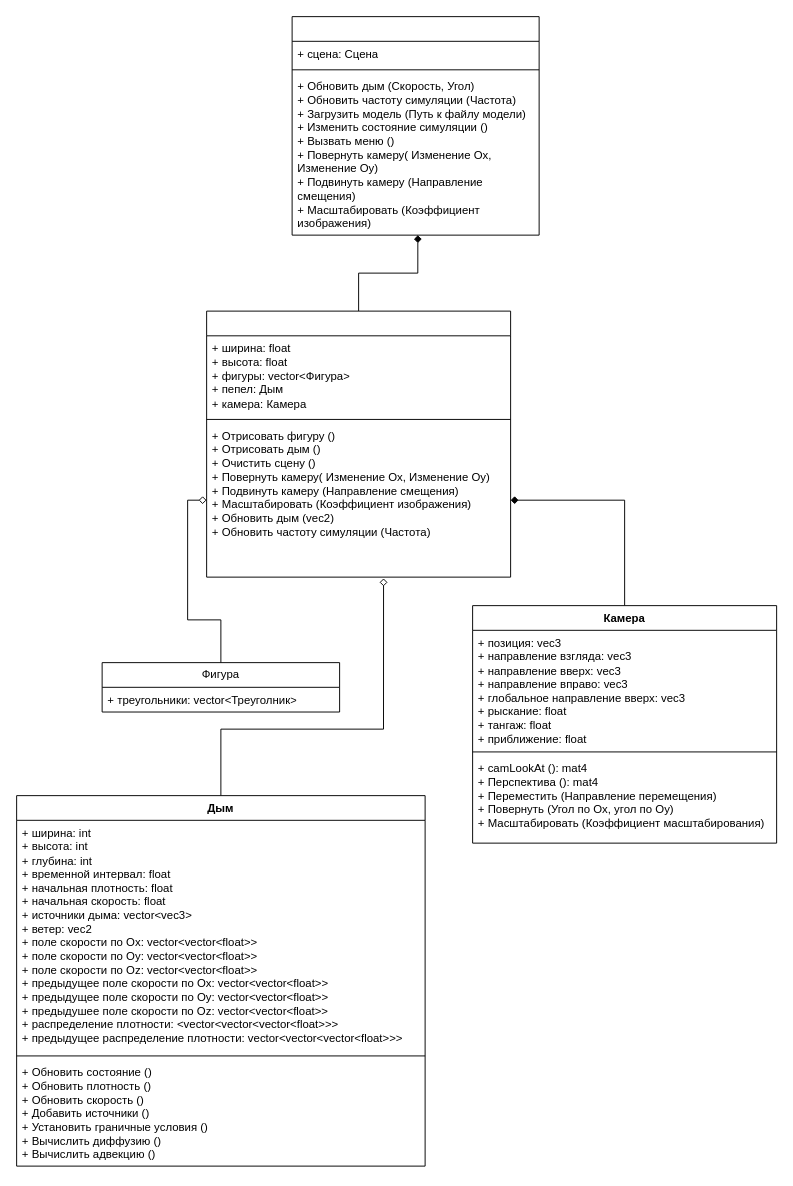
Some shapes in this 793 by 1186 pixel diagram are drawn without their labels. Here are the shapes that lost their labels. From the top down, the box of each, then its label:
(291, 16, 539, 235): Обработчик задач
(206, 310, 511, 577): Сцена
